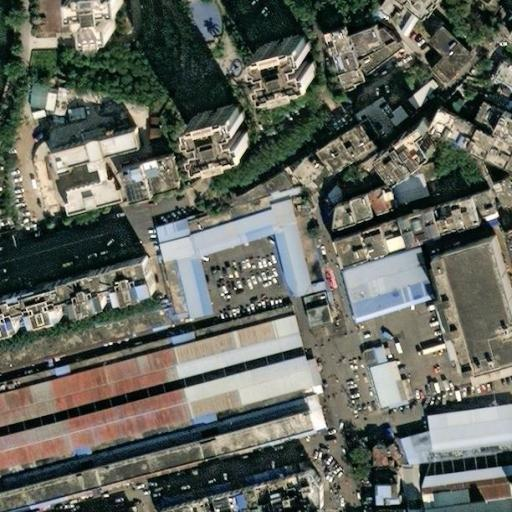building: (0, 355, 318, 477), (0, 412, 314, 512), (433, 245, 512, 378), (340, 254, 430, 322), (57, 257, 153, 314), (420, 403, 512, 455), (212, 470, 322, 512), (370, 120, 431, 181), (187, 211, 268, 255), (422, 267, 459, 362), (45, 126, 129, 165), (227, 161, 295, 208), (436, 191, 497, 241), (249, 32, 306, 85), (326, 189, 386, 238), (186, 104, 242, 156), (268, 228, 306, 296), (171, 254, 209, 321), (153, 479, 237, 507), (428, 28, 469, 80), (49, 172, 106, 209), (349, 231, 399, 272), (362, 359, 403, 409), (150, 218, 193, 263), (346, 44, 403, 77), (471, 129, 512, 174), (426, 442, 512, 463), (238, 461, 303, 486), (377, 470, 414, 512), (332, 171, 385, 198), (402, 76, 440, 113), (133, 149, 167, 188), (409, 213, 445, 249), (310, 137, 346, 172), (450, 118, 483, 151), (27, 80, 60, 111), (117, 165, 146, 199), (260, 198, 288, 233), (332, 31, 362, 62), (399, 434, 427, 467), (486, 60, 512, 95), (300, 394, 322, 435), (315, 185, 336, 225), (372, 442, 401, 470), (339, 117, 367, 145), (330, 128, 354, 158), (299, 303, 327, 328), (157, 498, 206, 512), (435, 110, 461, 135), (54, 0, 73, 34), (294, 287, 322, 310), (358, 33, 386, 55), (389, 222, 410, 251), (493, 181, 512, 211), (356, 346, 378, 367), (393, 21, 408, 37), (304, 279, 318, 290)
